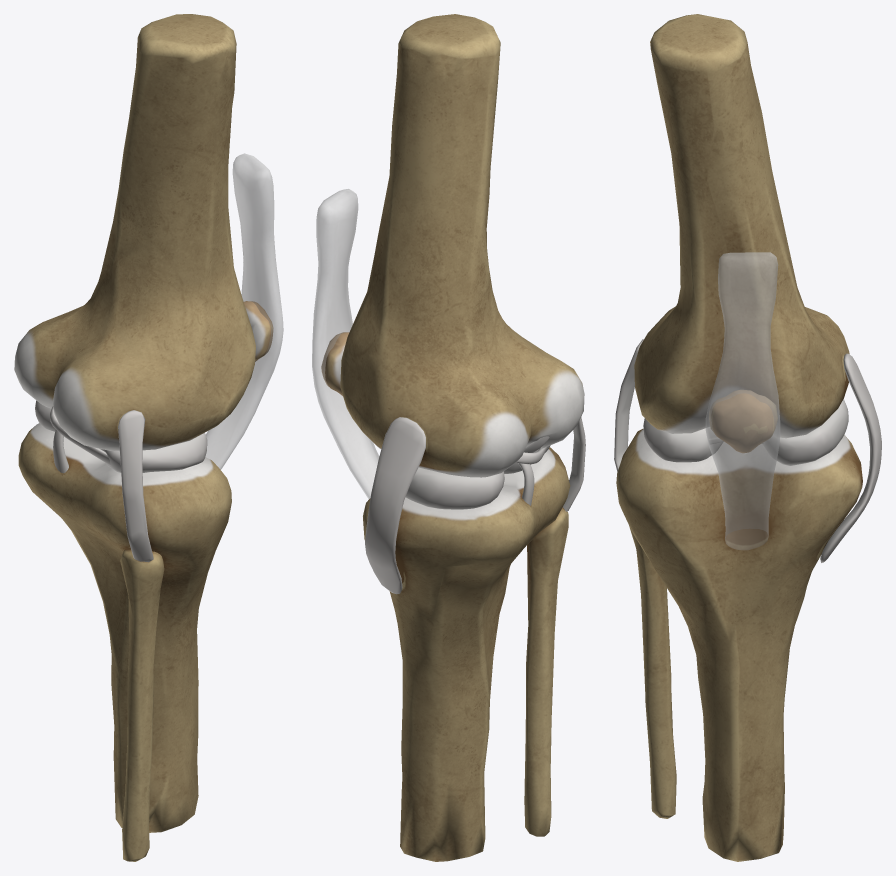
The model's file is knee_anatomy.glb.
3 renders of one model, left to right at view 1: azimuth 30°, elevation 25°; view 2: azimuth 150°, elevation 25°; view 3: azimuth 270°, elevation 25°, orthographic. The views are drawn at different scales.
Parts seen in each view (by area): view 1: Bone_Low, Transparenty_Low, Mash_Low; view 2: Bone_Low, Mash_Low, Transparenty_Low; view 3: Bone_Low, Transparenty_Low, Mash_Low.
Boxes of the visible parts, x1,y1,x2,y2 form: Bone_Low: (14, 14, 255, 861); Transparenty_Low: (205, 153, 283, 469); Mash_Low: (35, 301, 273, 562); Bone_Low: (340, 14, 584, 861); Mash_Low: (321, 332, 585, 594); Transparenty_Low: (312, 189, 379, 498); Bone_Low: (616, 14, 862, 861); Transparenty_Low: (705, 252, 780, 549); Mash_Low: (614, 339, 881, 562).
Size of the model in its own units: 0.0457 by 0.1498 by 0.0443.
Materials: 3 (3 with a texture image).
